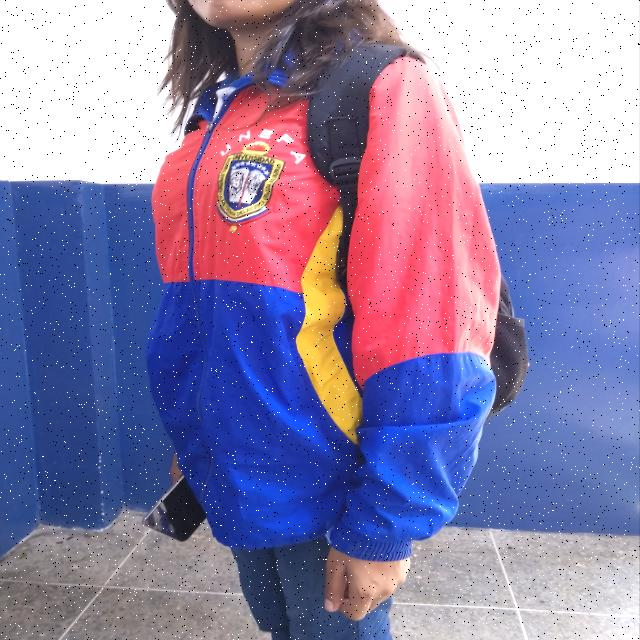chaqueta_unefa: (144, 54, 503, 564)
